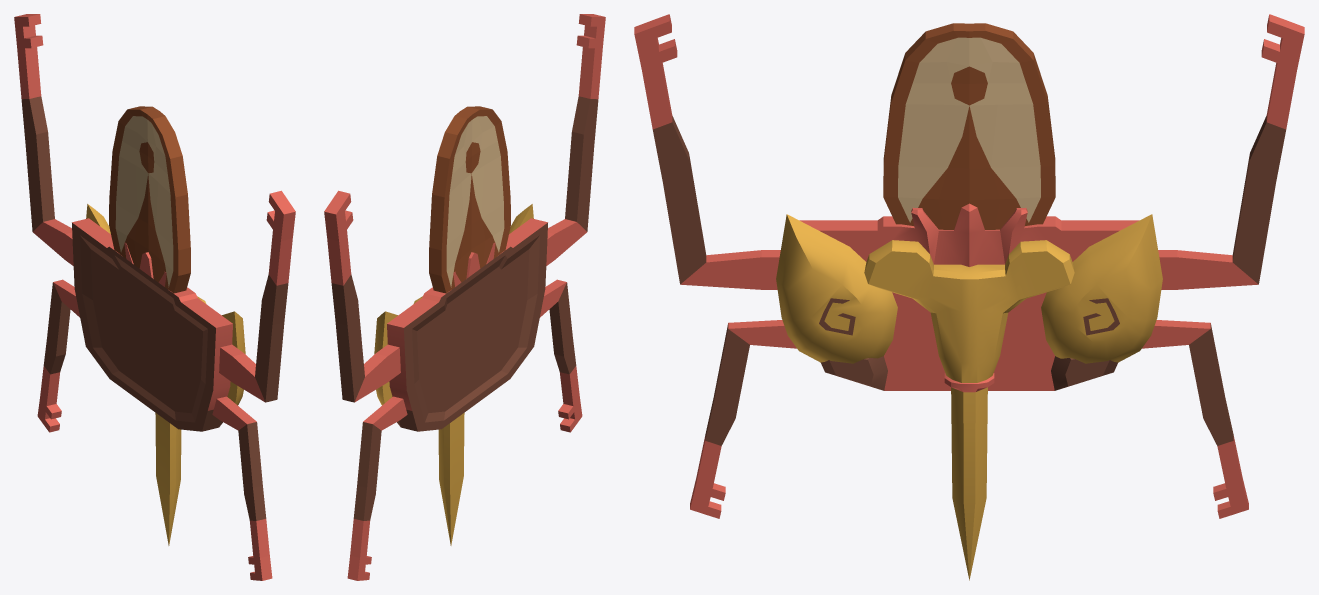
File: 蚊灾面具.fbx
The picture shows the model from 3 angles, left to right: view 1: azimuth 30°, elevation 25°; view 2: azimuth 150°, elevation 25°; view 3: azimuth 270°, elevation 25°; orthographic projection. The views are drawn at different scales.
Visible parts, largest first — view 1: 蚊灾面具; view 2: 蚊灾面具; view 3: 蚊灾面具.
Part boxes in pixels (<box>): 蚊灾面具: <box>14,14,295,580</box>; 蚊灾面具: <box>324,14,605,580</box>; 蚊灾面具: <box>634,14,1304,580</box>.
Bounding box in the file's own units: 12.88 × 144 × 158.
